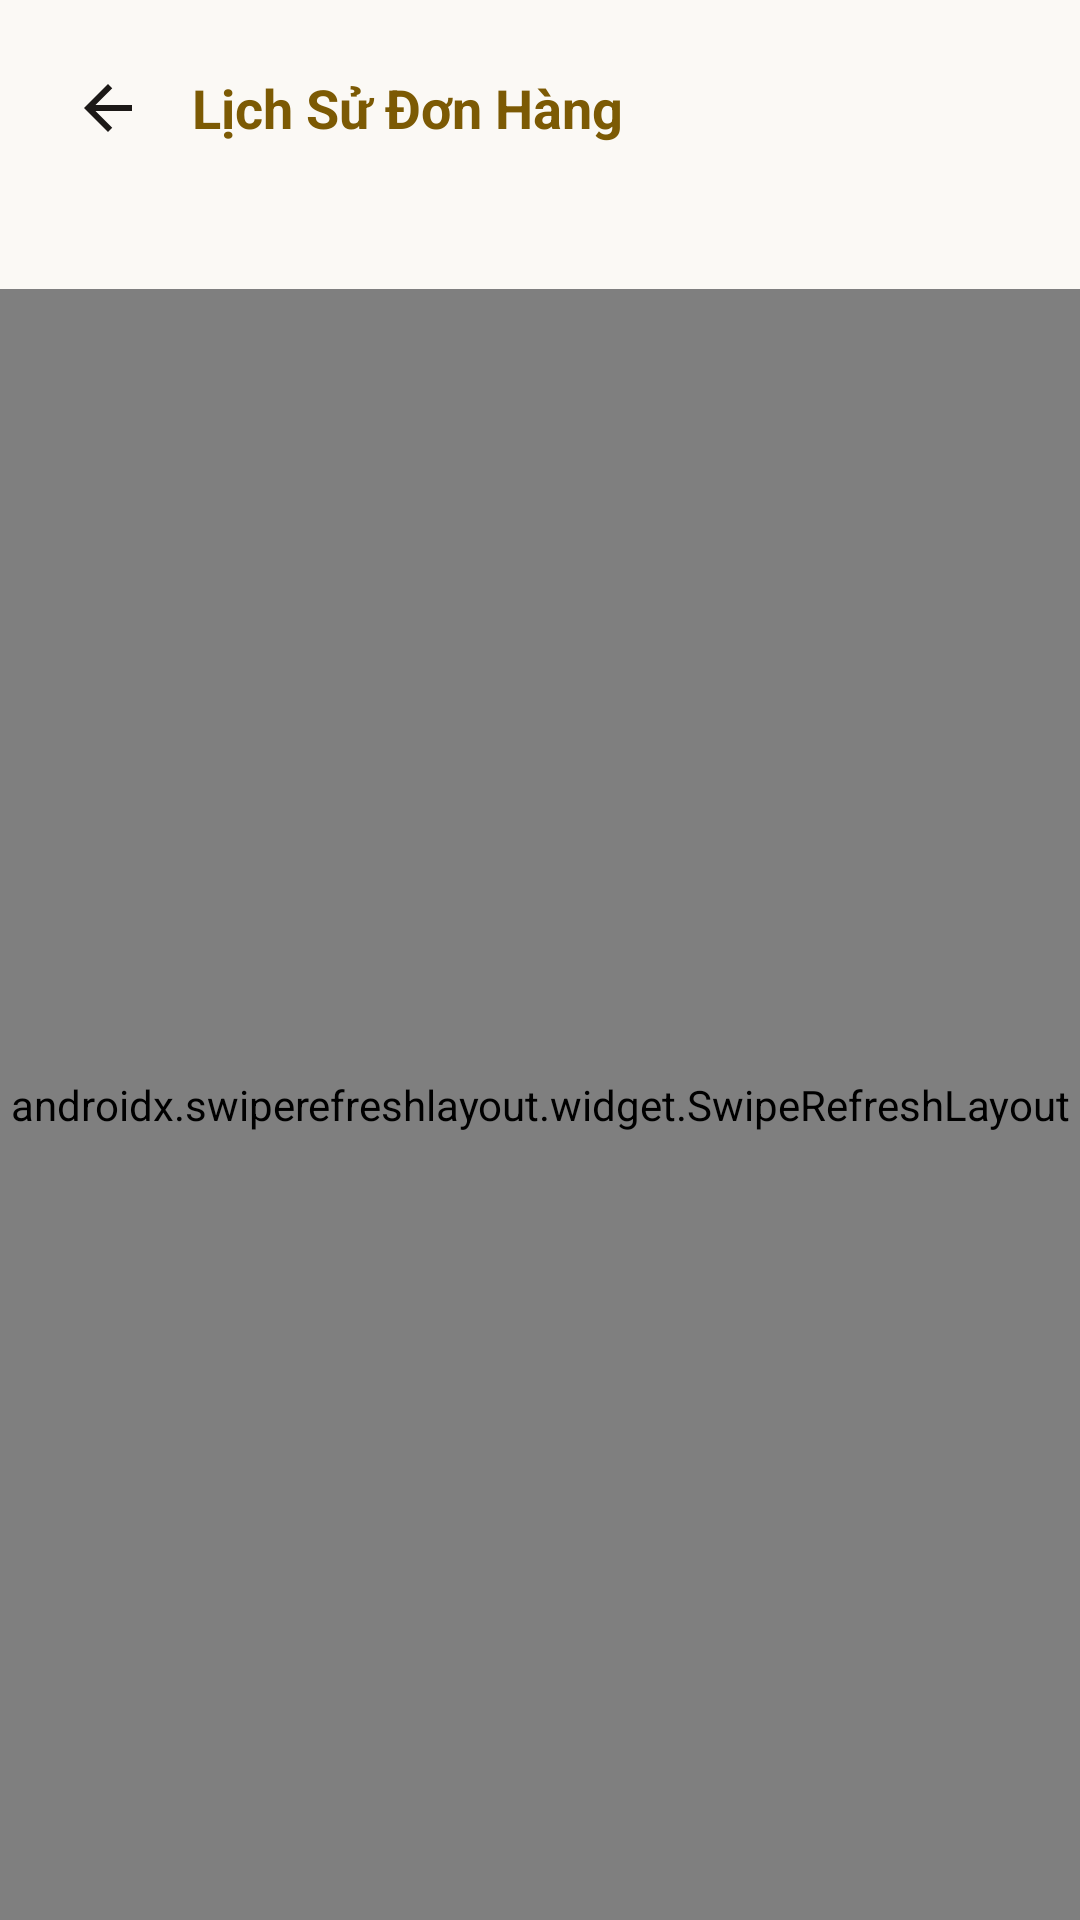

Icon bounding boxes for this 1080x1920 phone screenshot, format {"left": x1, "top": y1, "right": x2, "bottom": y2}:
Quay lại: {"left": 84, "top": 84, "right": 132, "bottom": 132}
